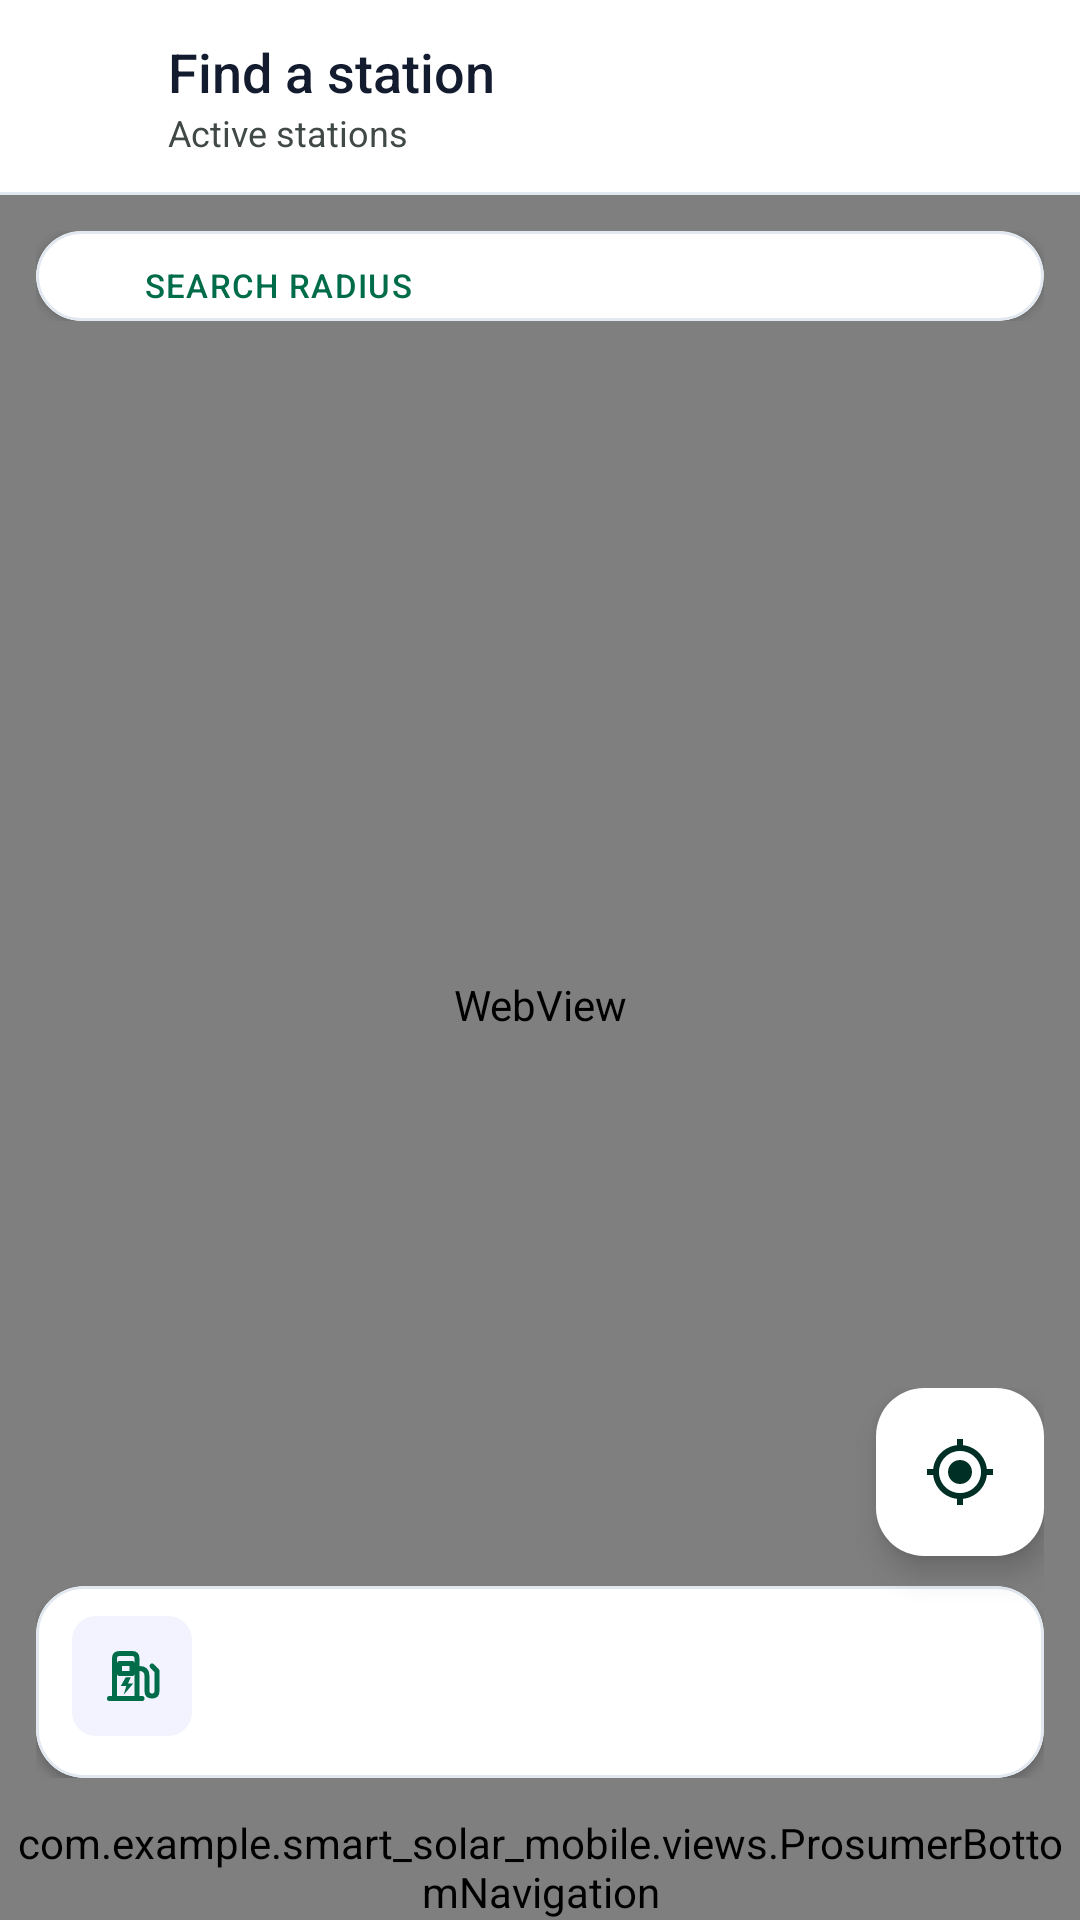

Point at icon controls on the screen. Image size 1080 x 1920, points as [x,y].
My location: [960,1472]
prosumer nav station: [133,1676]
